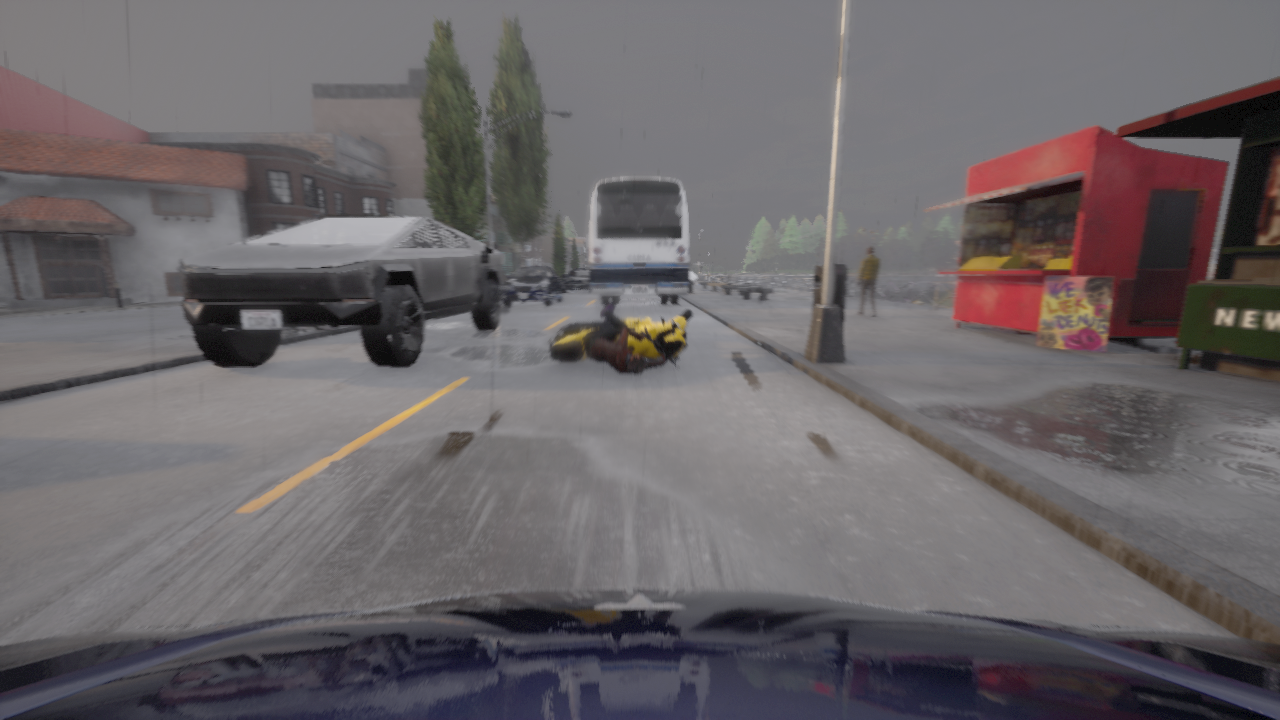cyclist: (0, 588, 1279, 719), (178, 215, 502, 367), (590, 176, 688, 304), (549, 310, 691, 368), (501, 266, 562, 306), (562, 268, 590, 293)
pedestrian: (856, 246, 879, 317)
